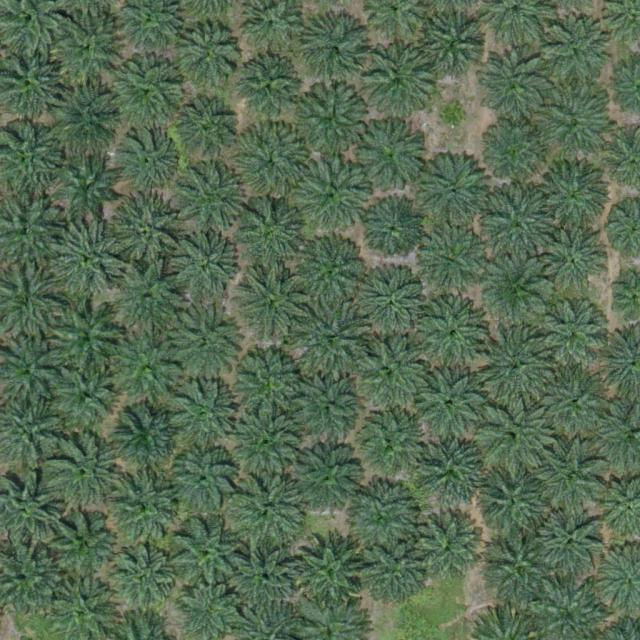Healthy: (481, 189, 559, 268), (293, 235, 371, 314), (234, 122, 312, 201), (234, 198, 312, 277), (234, 268, 312, 347), (106, 192, 184, 271), (111, 262, 189, 341), (46, 221, 124, 300), (48, 77, 126, 156), (46, 11, 124, 90), (47, 294, 125, 373), (49, 356, 127, 435), (47, 432, 125, 511), (41, 502, 119, 581), (104, 329, 182, 408), (163, 380, 241, 459), (165, 303, 243, 382), (166, 517, 244, 596), (232, 405, 310, 484), (231, 472, 309, 551), (345, 336, 423, 415), (291, 531, 369, 610), (476, 327, 554, 406), (474, 399, 552, 478), (291, 155, 369, 233), (293, 82, 371, 160), (232, 346, 310, 424), (348, 406, 426, 484), (341, 479, 419, 557), (415, 227, 486, 298), (172, 24, 243, 95), (104, 541, 175, 612), (357, 535, 428, 606), (539, 368, 610, 439), (537, 301, 608, 372), (539, 13, 609, 84), (540, 87, 610, 158), (481, 53, 551, 124), (482, 256, 552, 327), (417, 154, 488, 224), (364, 270, 434, 341), (299, 16, 369, 87), (167, 230, 237, 301), (177, 164, 247, 235), (113, 61, 183, 132), (112, 474, 182, 545), (170, 447, 240, 518), (291, 445, 362, 515), (414, 512, 484, 583), (419, 434, 489, 505), (417, 301, 487, 372), (484, 531, 554, 602), (538, 159, 608, 229), (419, 15, 489, 85), (357, 117, 427, 187), (114, 404, 184, 474), (227, 545, 297, 615), (292, 374, 362, 444), (300, 302, 370, 372), (414, 370, 484, 440), (479, 470, 549, 540), (537, 509, 607, 579), (535, 444, 605, 514), (484, 120, 547, 183), (237, 57, 300, 120), (177, 98, 240, 161), (544, 230, 606, 293), (368, 51, 430, 114), (364, 199, 426, 262), (118, 129, 180, 192), (57, 155, 119, 217)
Small: (438, 102, 469, 133)
